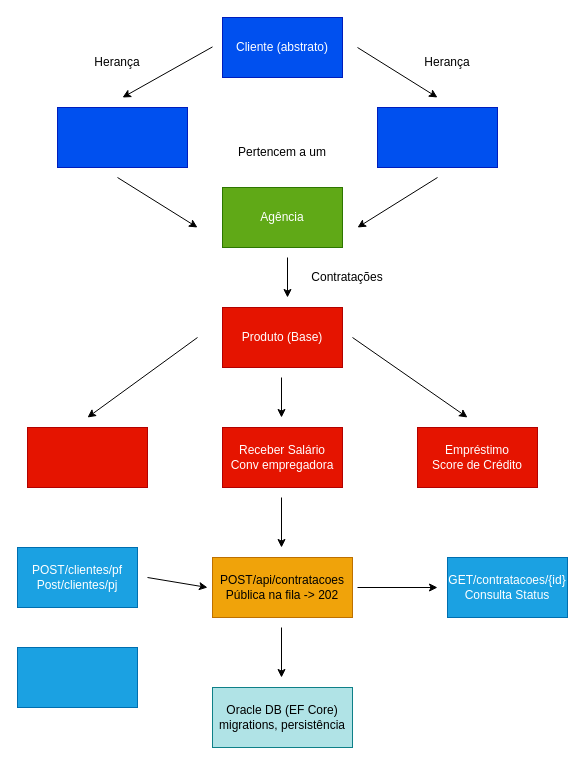
This 585x765 diagram has some shape labels left out. The shapes that lost their labels are listed below. From the top down, each one's centre as x and y in pixels, then its label:
the point at 122,137: Pessoa Física CPF - Data Nascimento
the point at 437,137: Pessoa Jurídica CNPJ - Razão Social
the point at 87,457: Máquina Cartão Taxa MDR
the point at 77,677: GET/cliente/{id} POST/agencias
